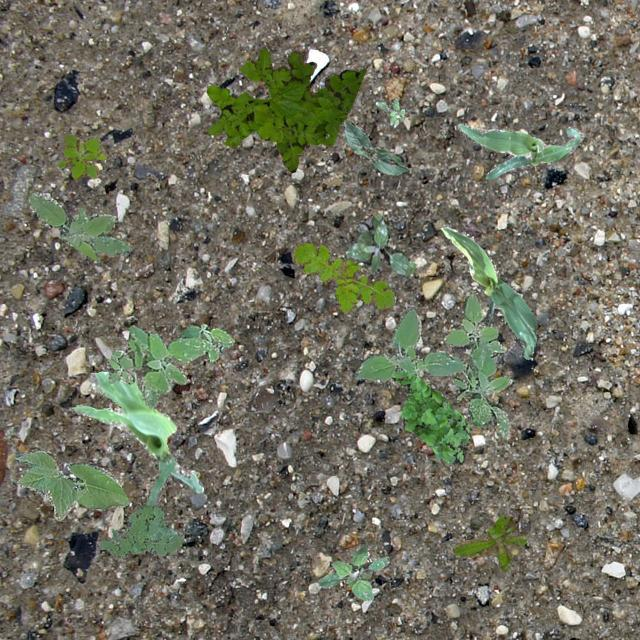crop: (70, 370, 202, 506), (440, 225, 536, 358), (14, 450, 128, 520), (456, 122, 582, 178), (344, 120, 408, 174)
weed: (354, 291, 508, 438), (206, 46, 364, 172), (105, 322, 234, 408), (390, 369, 470, 464), (292, 240, 394, 312), (28, 190, 130, 262), (98, 502, 182, 558), (344, 213, 414, 276), (452, 514, 526, 570), (317, 544, 388, 600), (56, 134, 106, 180), (374, 98, 404, 126)
